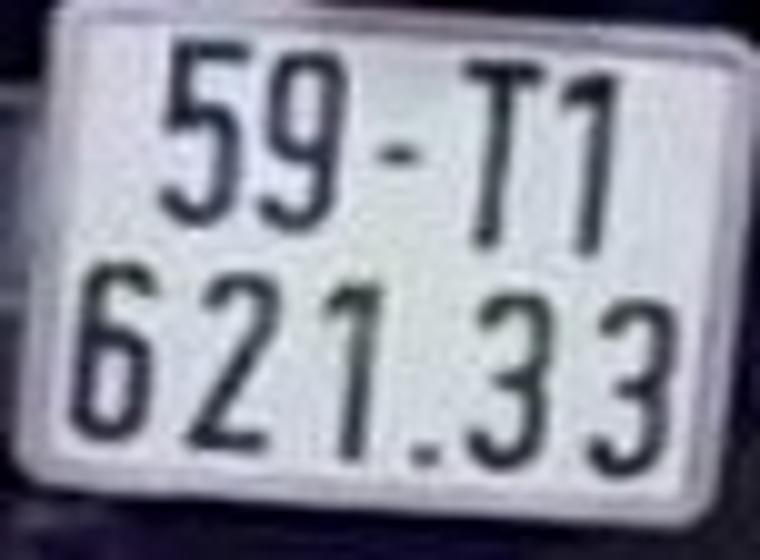-: (374, 135, 418, 167)
.: (412, 436, 442, 479)
1: (318, 280, 385, 465), (559, 60, 614, 259)
2: (179, 272, 278, 454)
3: (583, 295, 680, 478), (466, 286, 555, 473)
5: (160, 34, 249, 224)
6: (66, 258, 163, 439)
9: (263, 47, 351, 229)
T: (454, 55, 548, 253)
